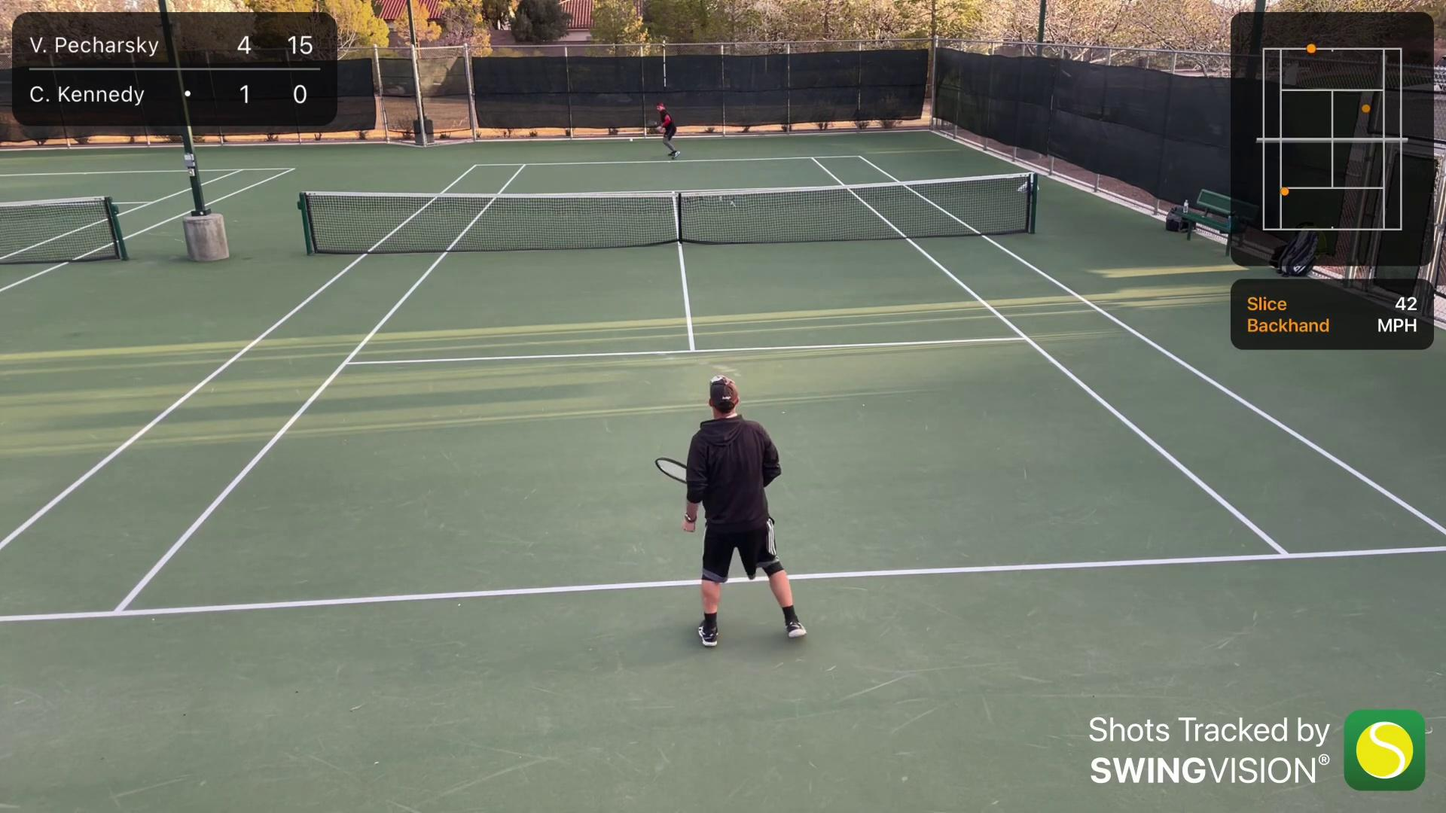ball: (628, 137, 635, 144)
